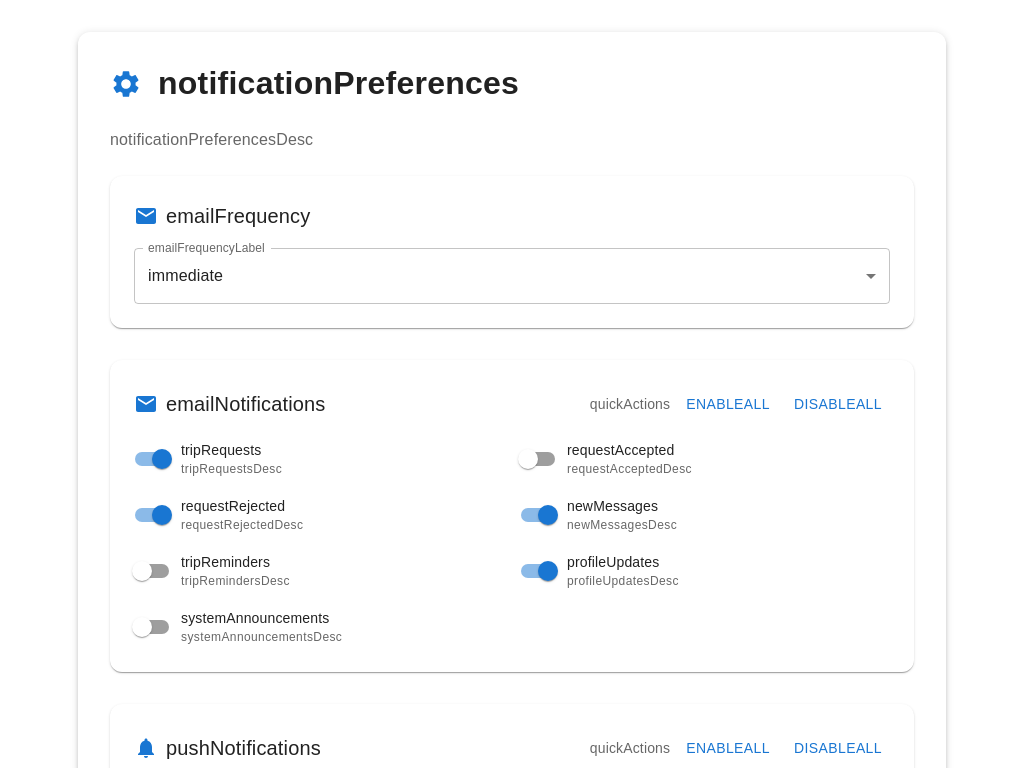
Test: NotificationPreferences › shows snackbar on update
# Pick the first label (the switch label, not the description)
Click the checkbox labelled "tripRequests tripRequestsDesc". click: (203,460)
box: [123, 440, 282, 480]
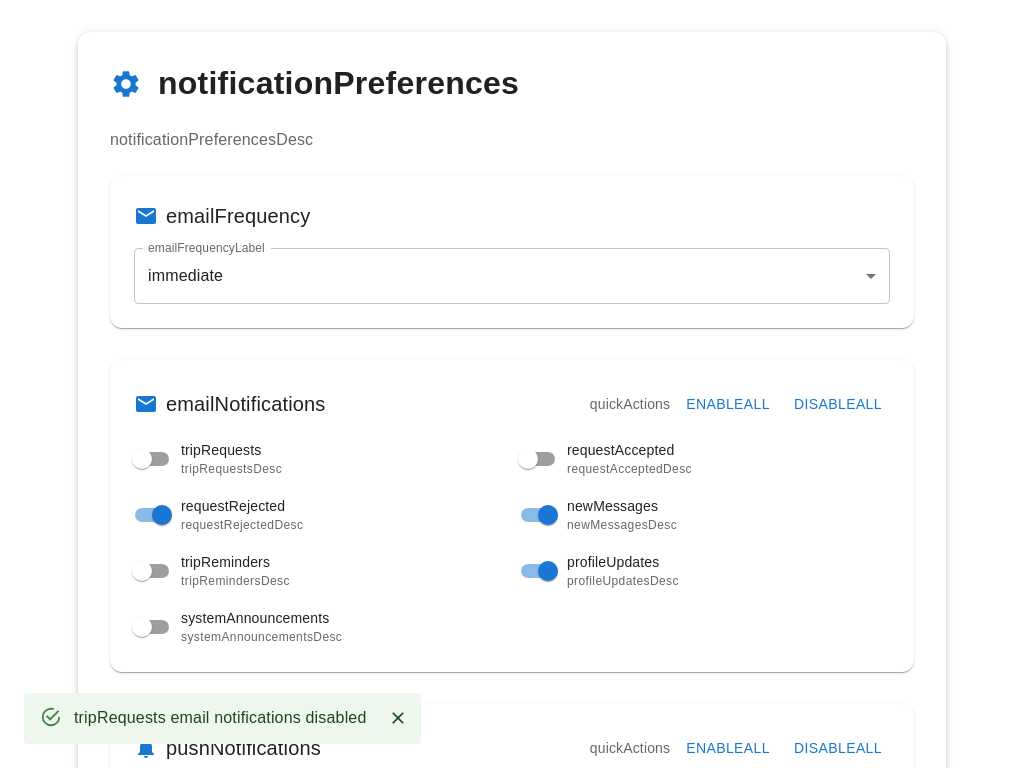
Expected: the message "tripRequests email notifications disabled" is shown, [24, 693, 420, 744]
